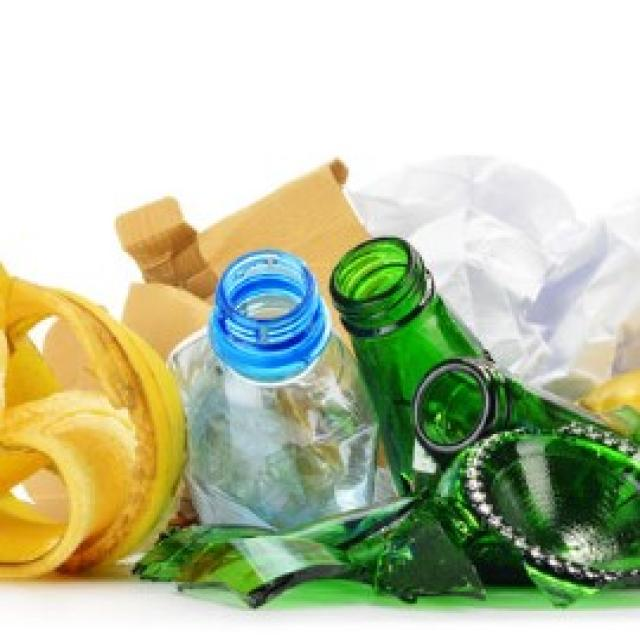electronic: (327, 233, 640, 639)
